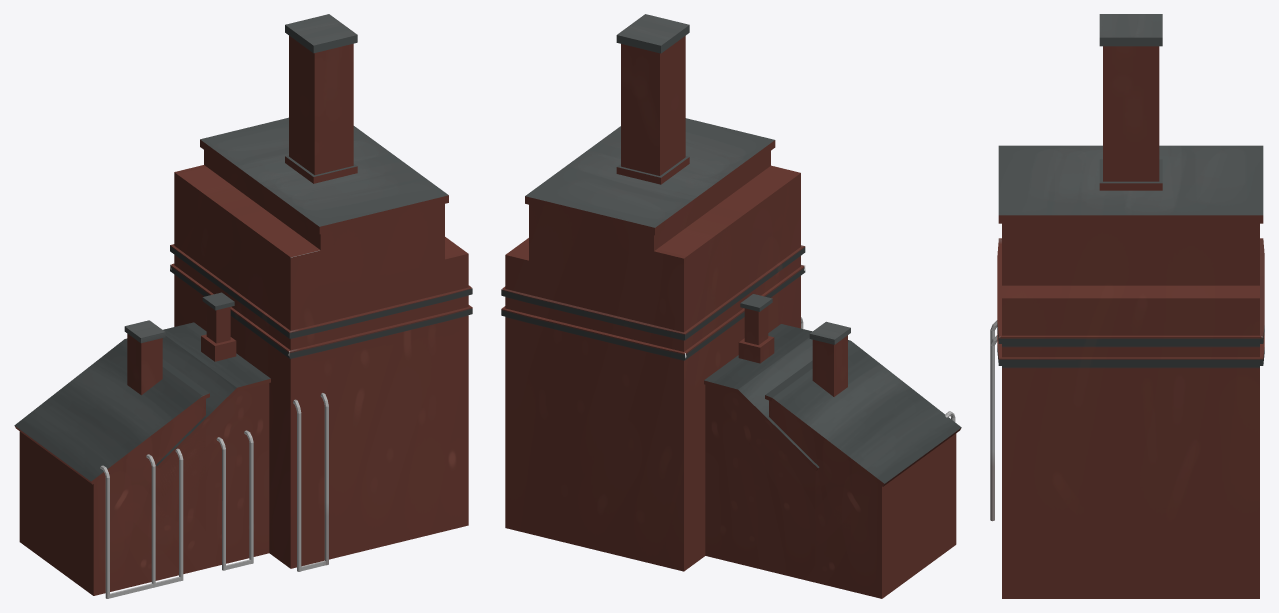
Rendered from Factory_without_wall.FBX.
3 renders of one model, left to right at view 1: azimuth 30°, elevation 25°; view 2: azimuth 150°, elevation 25°; view 3: azimuth 270°, elevation 25°, orthographic. The views are drawn at different scales.
Parts seen in each view (by area): view 1: factory; view 2: factory; view 3: factory.
Boxes of the visible parts, left/top/right/bottom form: factory: left=14, top=14, right=472, bottom=598; factory: left=501, top=14, right=961, bottom=598; factory: left=990, top=14, right=1264, bottom=598.
Bounding box in the file's own units: 22.88 × 13.65 × 28.82.
